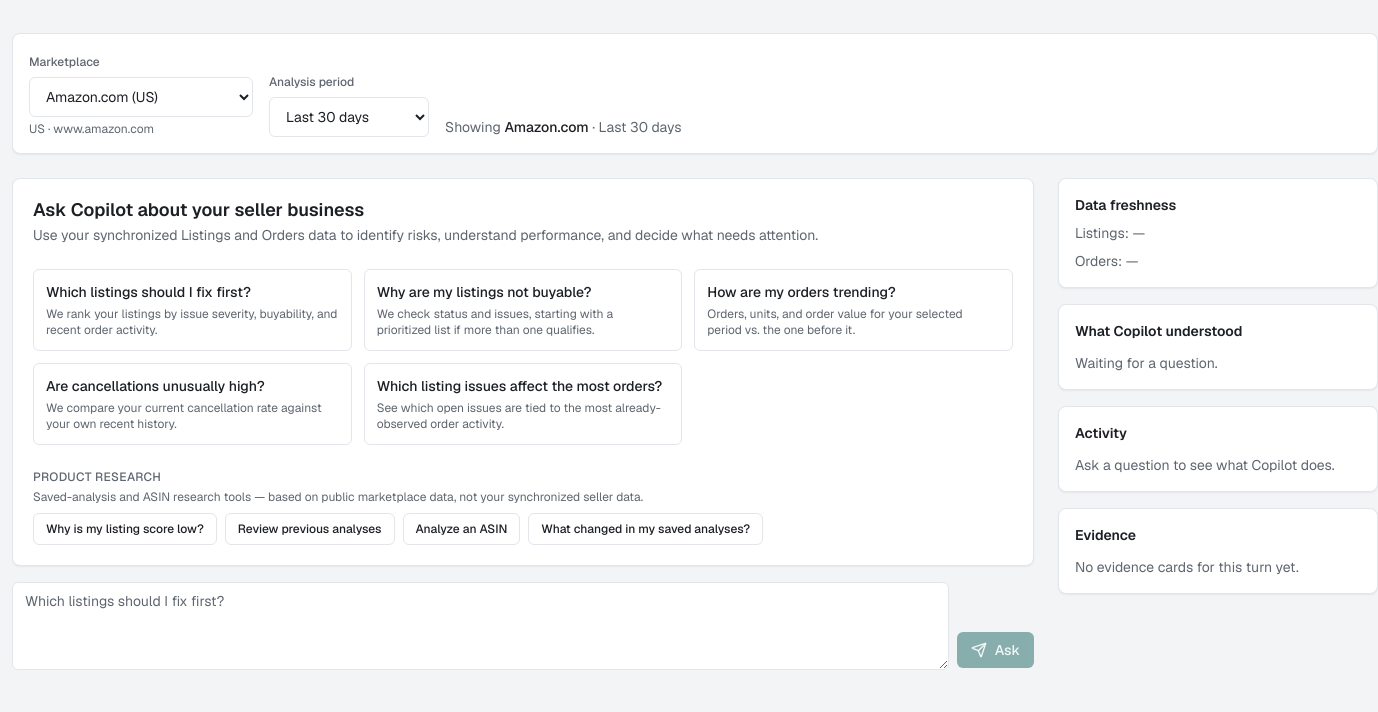
Test: SellerCopilot — launch skill cards › re-enables the launch skill cards for a follow-up question once the answer has arrived
Click the text "Which listings should I fix first?" at (148, 292), box [46,283,251,301]
(page scrolled)
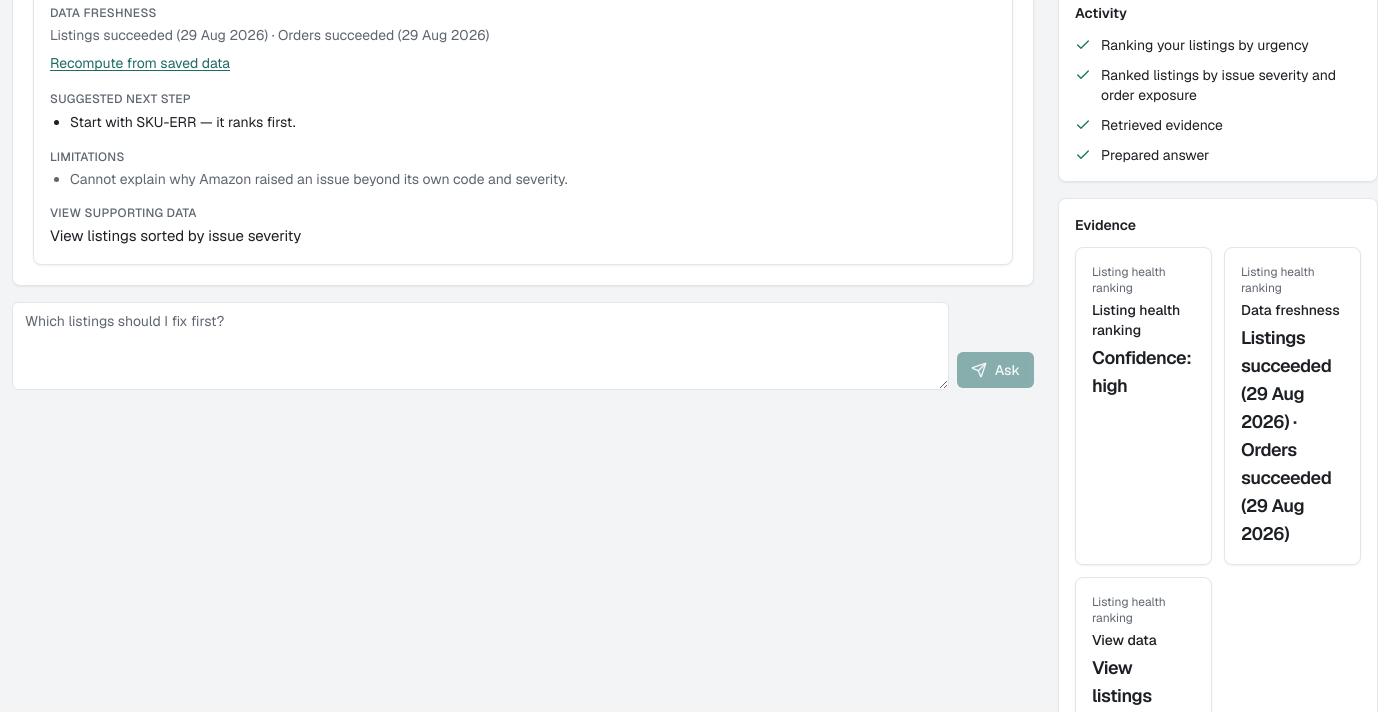
Type "How are my orders trending?" into the text box with placeholder "Which listings should I fix first?" at (480, 346), box [12,302,949,390]
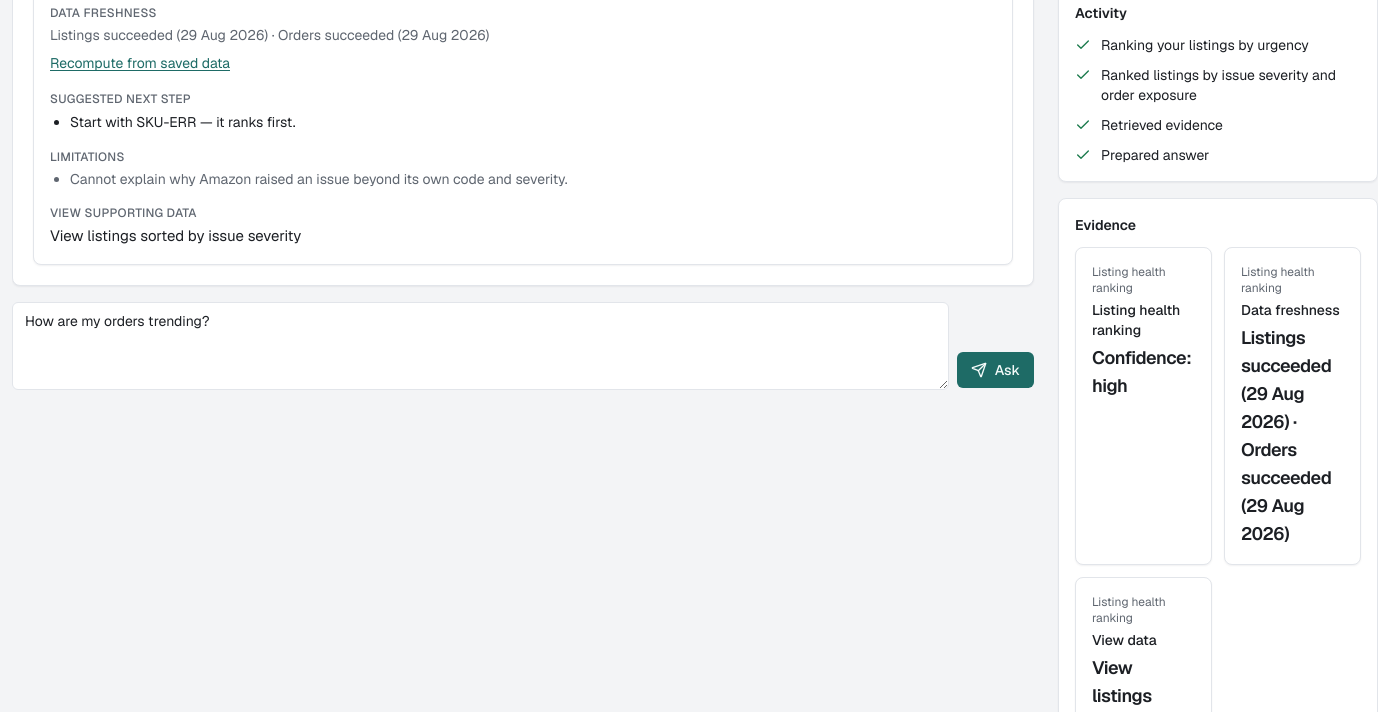
Check: the button "Ask" is enabled, box [957,352,1034,388]
